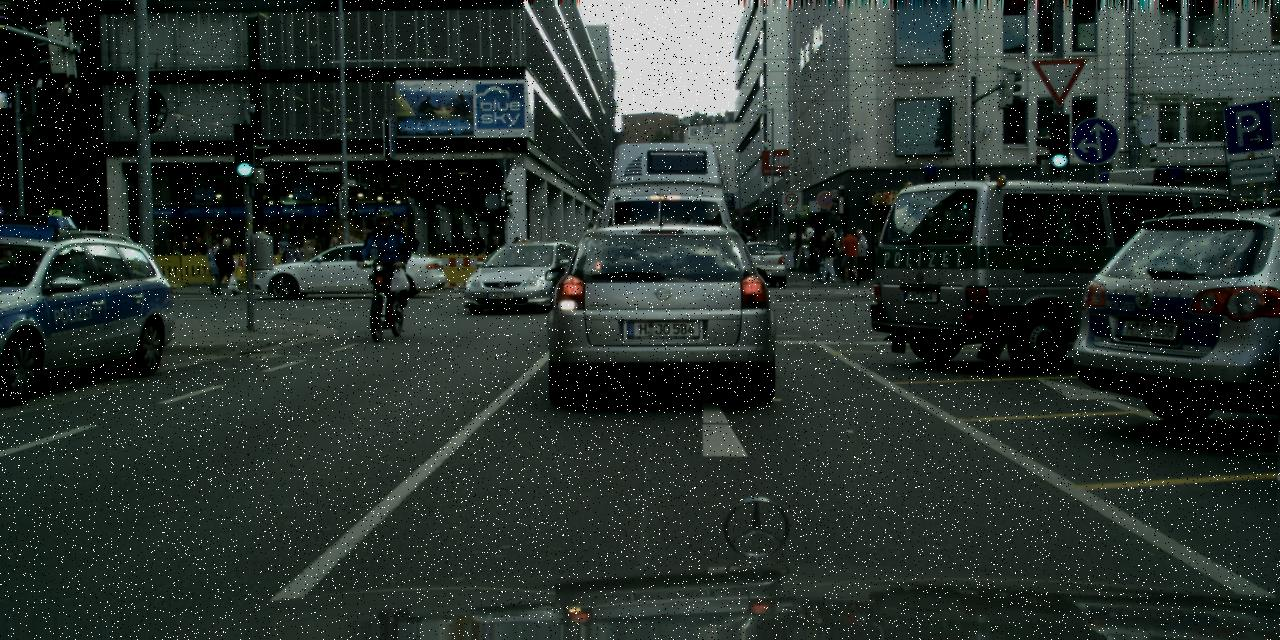ped: (364, 208, 408, 313), (839, 226, 862, 282), (205, 238, 227, 294), (215, 238, 237, 294), (850, 228, 871, 280), (817, 229, 838, 281), (871, 230, 891, 278), (506, 236, 524, 282), (282, 236, 300, 281), (814, 234, 832, 279), (299, 239, 315, 280), (484, 236, 500, 276), (470, 230, 484, 269), (811, 244, 826, 279), (436, 235, 450, 269), (454, 229, 472, 255), (312, 243, 322, 255), (297, 239, 307, 250), (310, 244, 311, 245)
